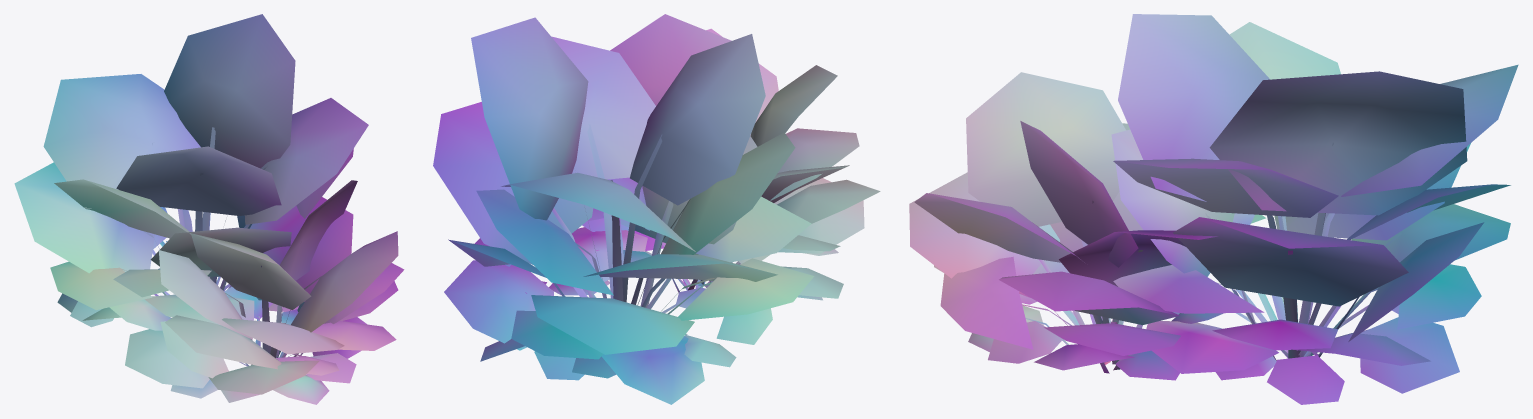
The picture shows the model from 3 angles, left to right: view 1: azimuth 30°, elevation 25°; view 2: azimuth 150°, elevation 25°; view 3: azimuth 270°, elevation 25°; orthographic projection. The views are drawn at different scales.
Visible parts, largest first — view 1: SM_BS_NeedlePalm_360cm; view 2: SM_BS_NeedlePalm_360cm; view 3: SM_BS_NeedlePalm_360cm.
Part boxes in pixels (x1,y1,x2,y2): SM_BS_NeedlePalm_360cm: (14,14,404,404); SM_BS_NeedlePalm_360cm: (433,14,880,404); SM_BS_NeedlePalm_360cm: (909,14,1518,404).
Bounding box in the file's own units: 211 × 162 × 136.
